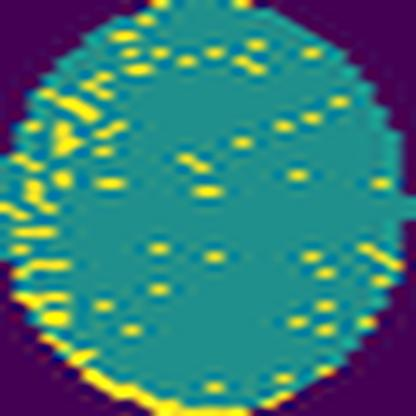Edge-Loc: (42, 330, 254, 415)
